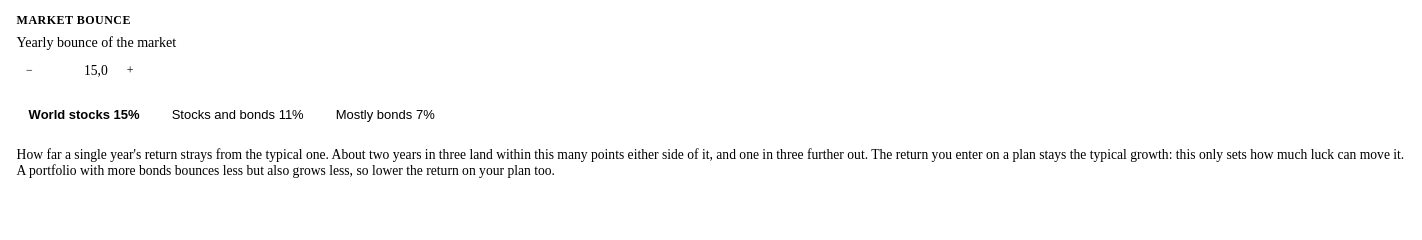
Test: MarketBounceSetting › puts the saved bounce back and says so when a save fails
Click the button named "Increase Market bounce" at point(130, 71), box [117,58,143,83]
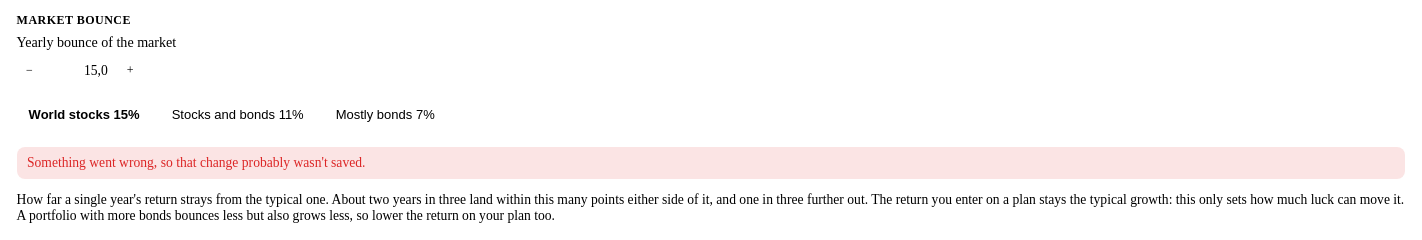
Check: the field named "Market bounce" holds "15,0", box [46,59,113,83]
Check: the message "Something went wrong, so that change probably wasn't saved." is shown, box [17,147,1405,179]
